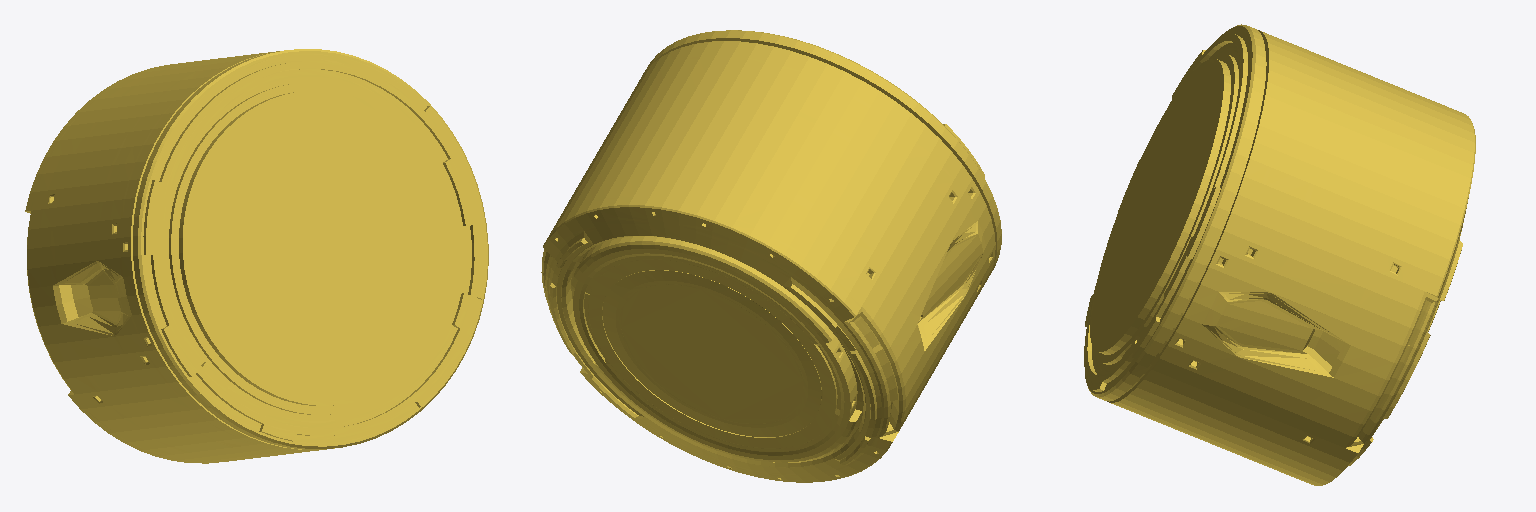
The model's file is rueda_delorean.obj.
3 renders of one model, left to right at view 1: azimuth 30°, elevation 25°; view 2: azimuth 150°, elevation 25°; view 3: azimuth 270°, elevation 25°, orthographic.
Parts seen in each view (by area): view 1: CPDeLorean_EngineFrontL; view 2: CPDeLorean_EngineFrontL; view 3: CPDeLorean_EngineFrontL.
Part boxes in pixels (left/top/right/bottom): CPDeLorean_EngineFrontL: left=25, top=49, right=488, bottom=463; CPDeLorean_EngineFrontL: left=541, top=30, right=1001, bottom=482; CPDeLorean_EngineFrontL: left=1084, top=24, right=1475, bottom=485.
Size of the model in its own units: 1.22 by 1.38 by 1.16.